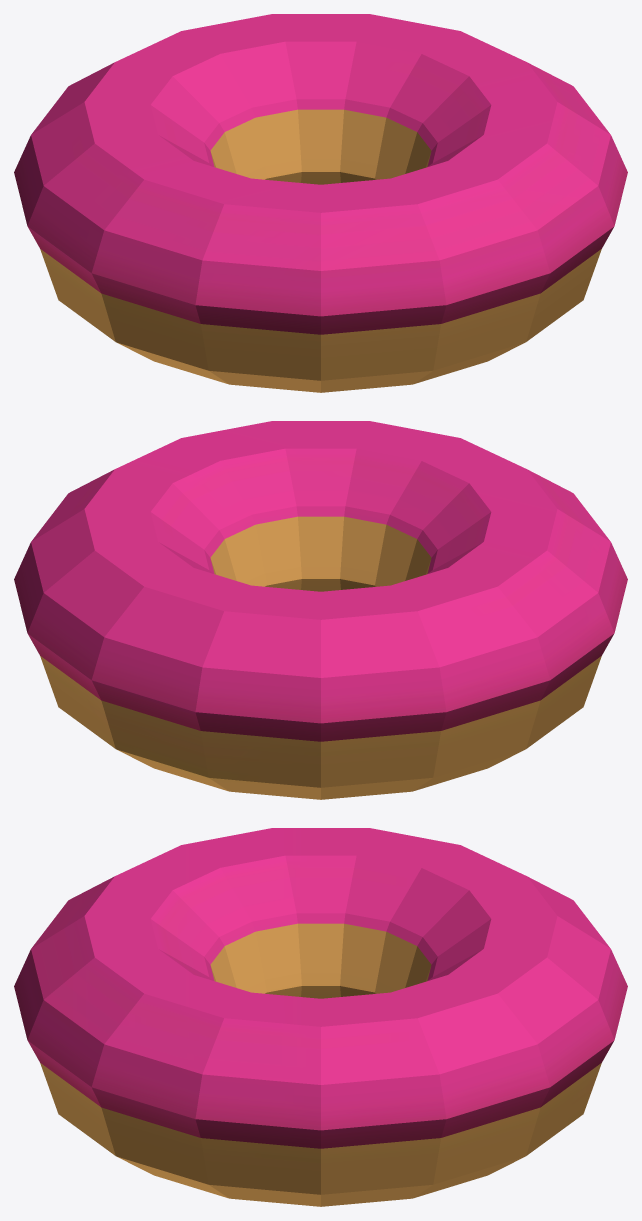
File: quaternius-junk-food-donut.glb
3 views of the same model, one above another, from view 1: azimuth 30°, elevation 25°; view 2: azimuth 150°, elevation 25°; view 3: azimuth 270°, elevation 25° (orthographic).
Parts seen in each view (by area): view 1: Donut1; view 2: Donut1; view 3: Donut1.
Part boxes in pixels (<box>): Donut1: <box>14,14,627,392</box>; Donut1: <box>14,421,627,799</box>; Donut1: <box>14,828,627,1206</box>.
Size of the model in its own units: 0.5992 by 0.2007 by 0.6025.
1 material, 1 textured.
